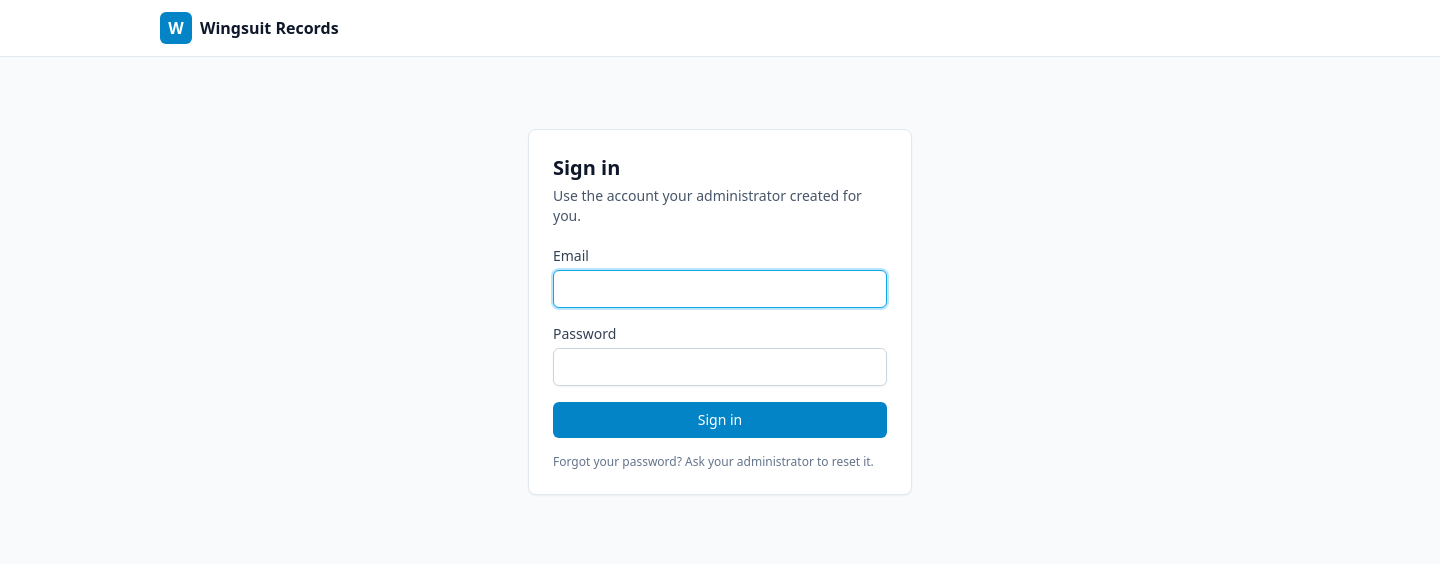
Test: App › shows the login screen when signed out, with no sign-up or password reset
Expected: the heading "Sign in" is shown, [553,154,620,181]
Step 1. Type "pat@example.com" into the field labelled "Email" → (720, 289), box [553,270,887,308]
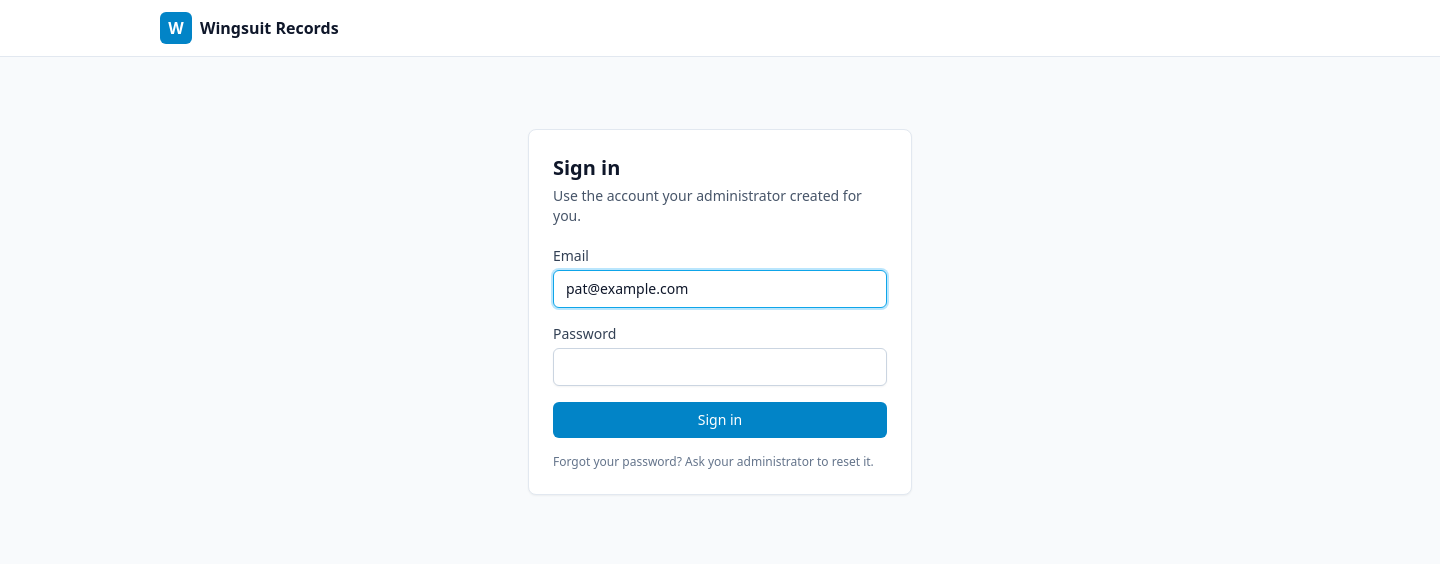
Step 2. Type "wrong" into the password field labelled "Password" → (720, 367), box [553,348,887,386]
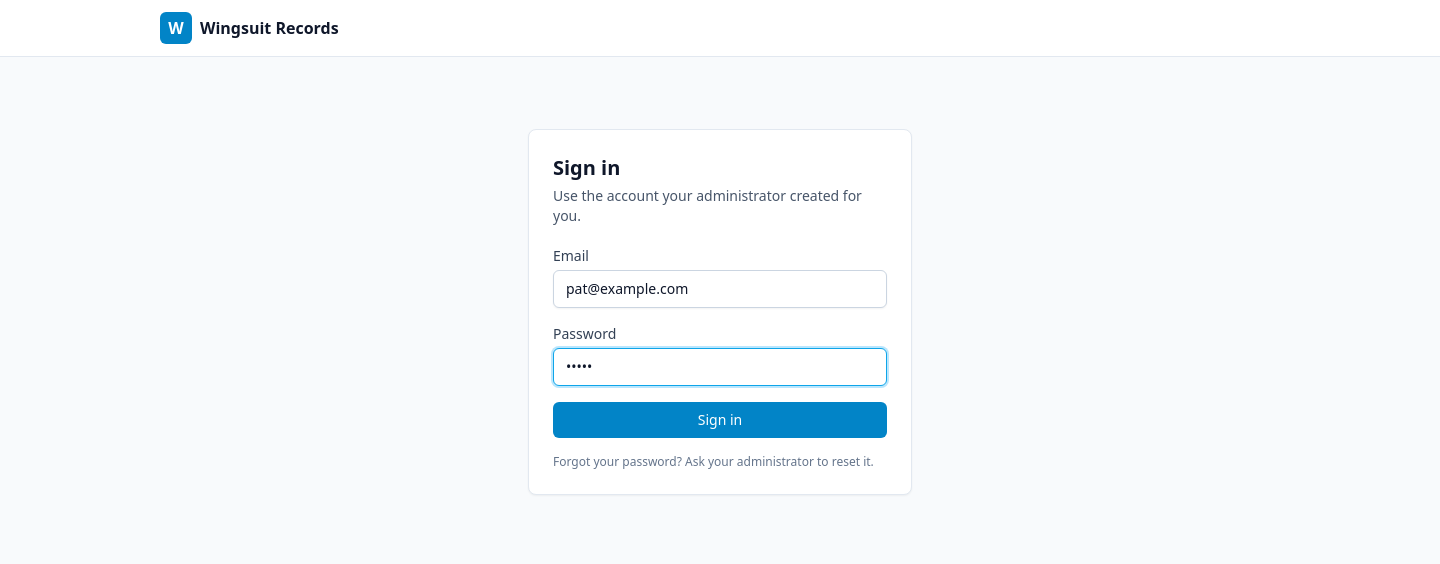
Step 3. Click the button "Sign in" → (720, 420), box [553,402,887,438]
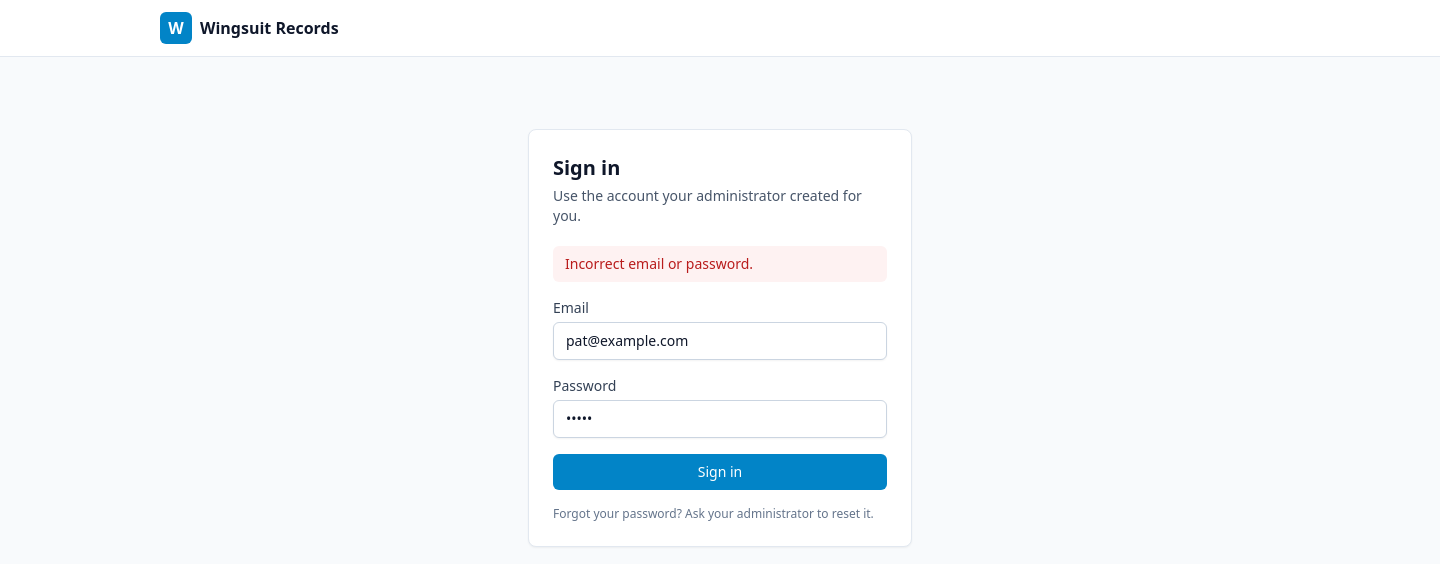
Now the message reads "Incorrect email or password.", box [565,254,753,273]
